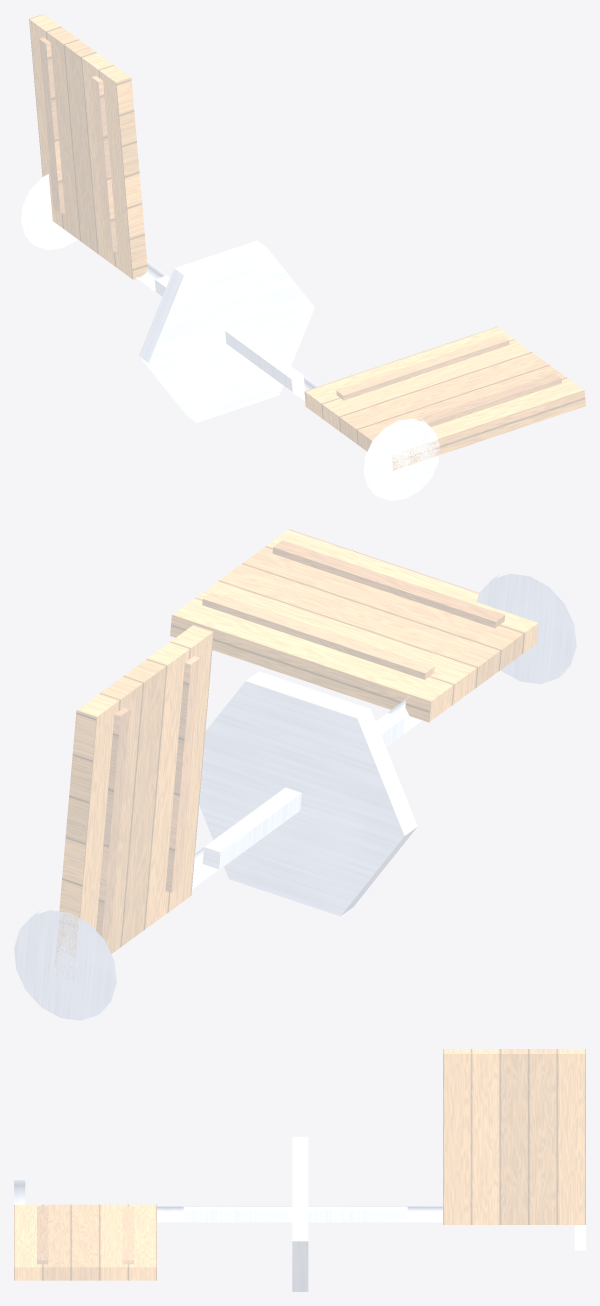
Rendered from level.gltf.
The picture shows the model from 3 angles, top to bottom: view 1: azimuth 30°, elevation 25°; view 2: azimuth 150°, elevation 25°; view 3: azimuth 270°, elevation 25°; orthographic projection. The views are drawn at different scales.
Parts seen in each view (by area): view 1: P_Modul_19_Flaps, P_Modul_19_Axis; view 2: P_Modul_19_Flaps, P_Modul_19_Axis; view 3: P_Modul_19_Flaps, P_Modul_19_Axis.
Boxes of the visible parts, x1,y1,x2,y2 form: P_Modul_19_Flaps: (29,14,585,470); P_Modul_19_Axis: (21,174,439,500); P_Modul_19_Flaps: (54,529,538,979); P_Modul_19_Axis: (14,573,576,1020); P_Modul_19_Flaps: (14,1049,585,1280); P_Modul_19_Axis: (14,1136,585,1291).
Size of the model in its own units: 8.83 by 8.56 by 20.
Materials: 3 (3 with a texture image).
